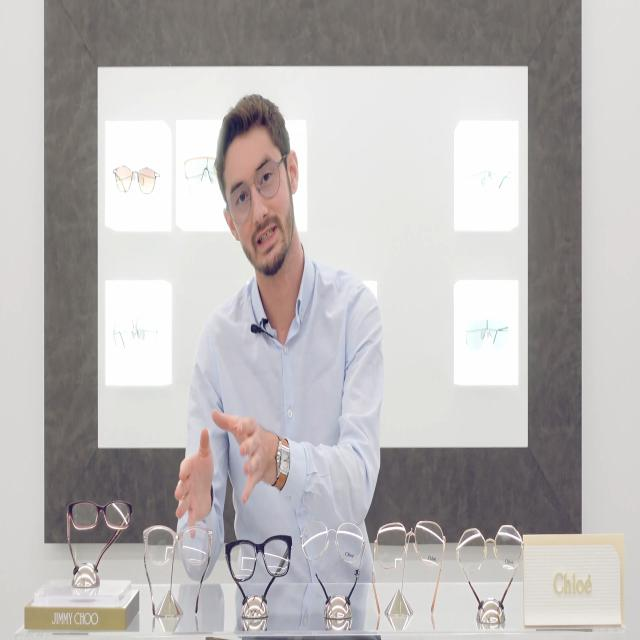dress: (177, 243, 384, 584)
glasses: (226, 154, 283, 222)
